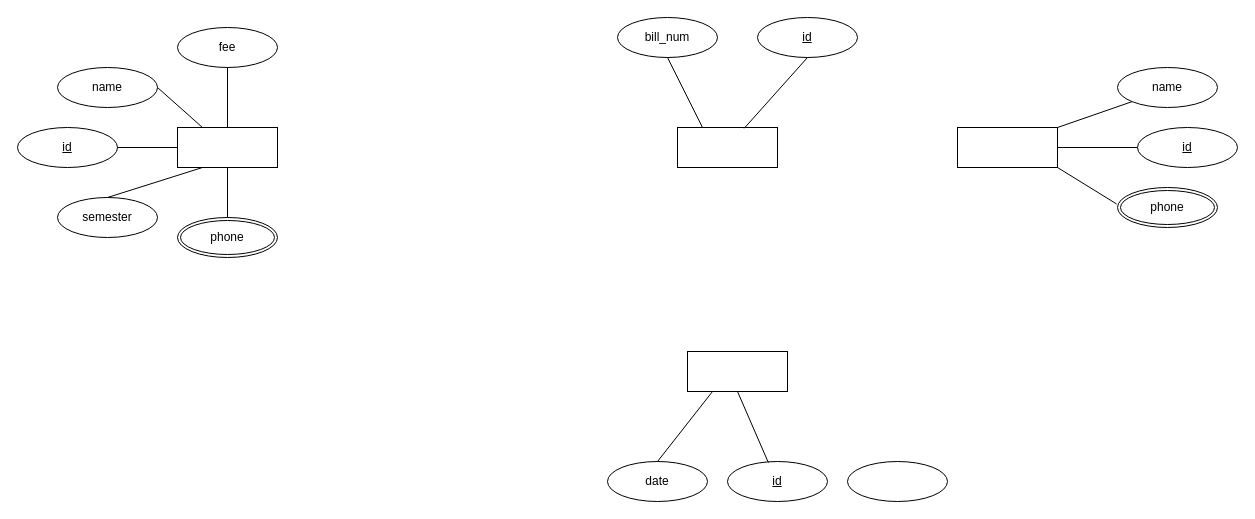
This 1255x519 diagram has some shape labels left out. Each missing label, with the centre of its shape:
"Account Staff" belongs at point (1007, 147).
"amount" belongs at point (897, 481).
"Bill" belongs at point (727, 147).
"Payment" belongs at point (737, 371).
"Student" belongs at point (227, 147).
